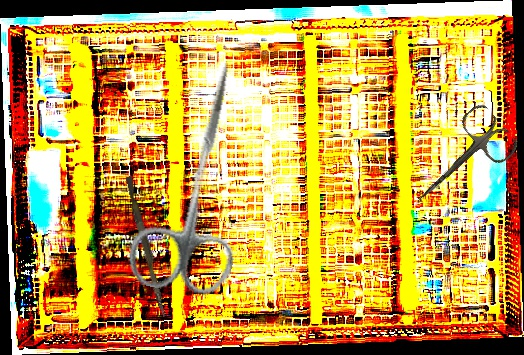Iris Scissors: (122, 51, 274, 303), (397, 100, 523, 222)
Pusher: (121, 175, 172, 319)
